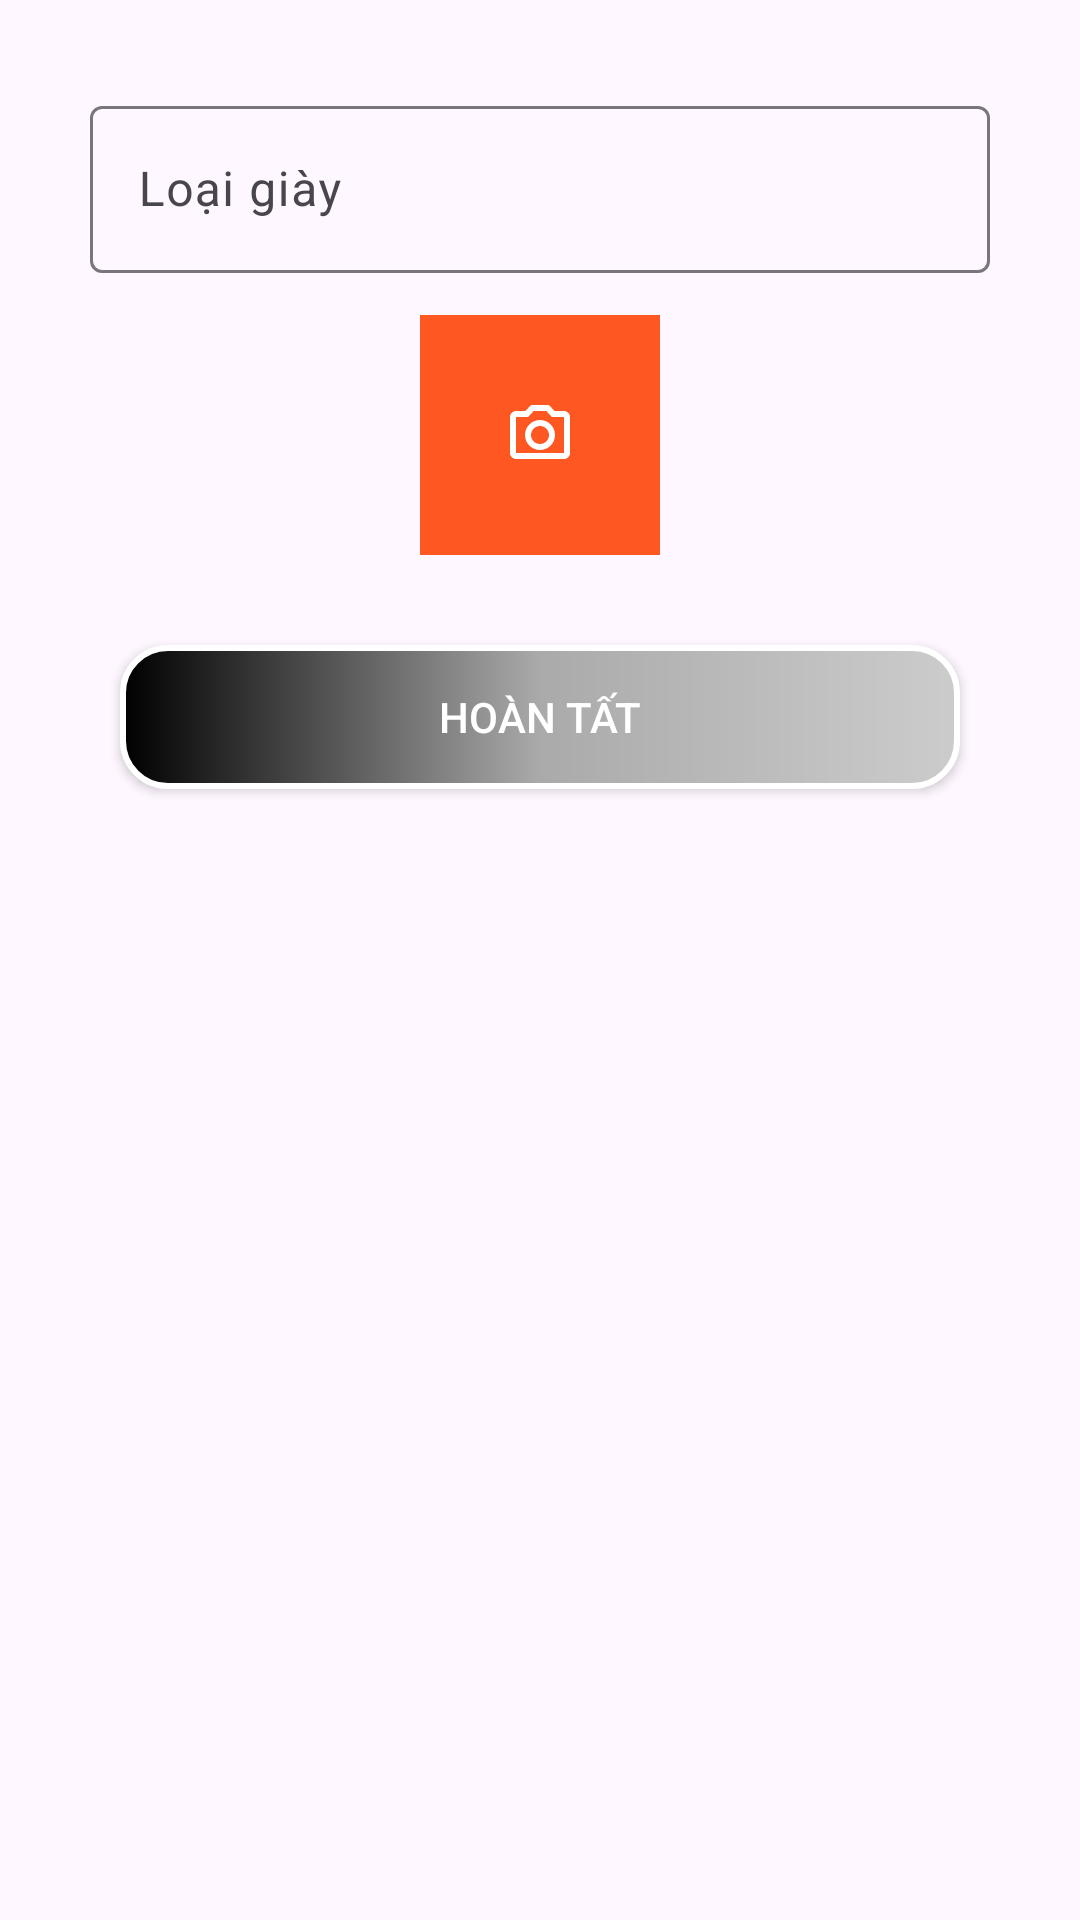

Screen size 1080px×1920px. Icon name, then its box in pixels as [left=x1, top=y1, right=x2, bottom=y2]:
camera: [left=420, top=315, right=660, bottom=555]
